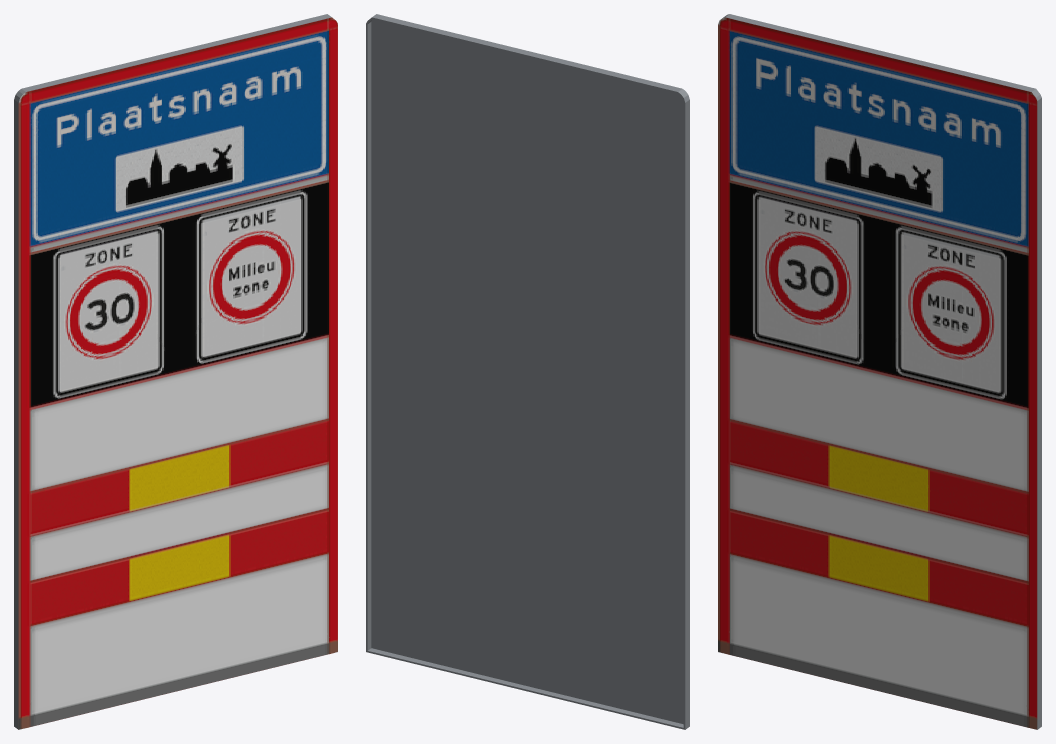
3 renders of one model, left to right at view 1: azimuth 30°, elevation 25°; view 2: azimuth 150°, elevation 25°; view 3: azimuth 330°, elevation 25°, orthographic.
Parts seen in each view (by area): view 1: cat_ab9e6733a4029287; view 2: cat_ab9e6733a4029287; view 3: cat_ab9e6733a4029287.
Boxes of the visible parts, x1,y1,x2,y2 form: cat_ab9e6733a4029287: [14, 14, 337, 729]; cat_ab9e6733a4029287: [366, 14, 689, 729]; cat_ab9e6733a4029287: [718, 14, 1041, 729].
Size of the model in its own units: 0.6 by 0.015 by 1.14.
Materials: 2 (1 with a texture image).
